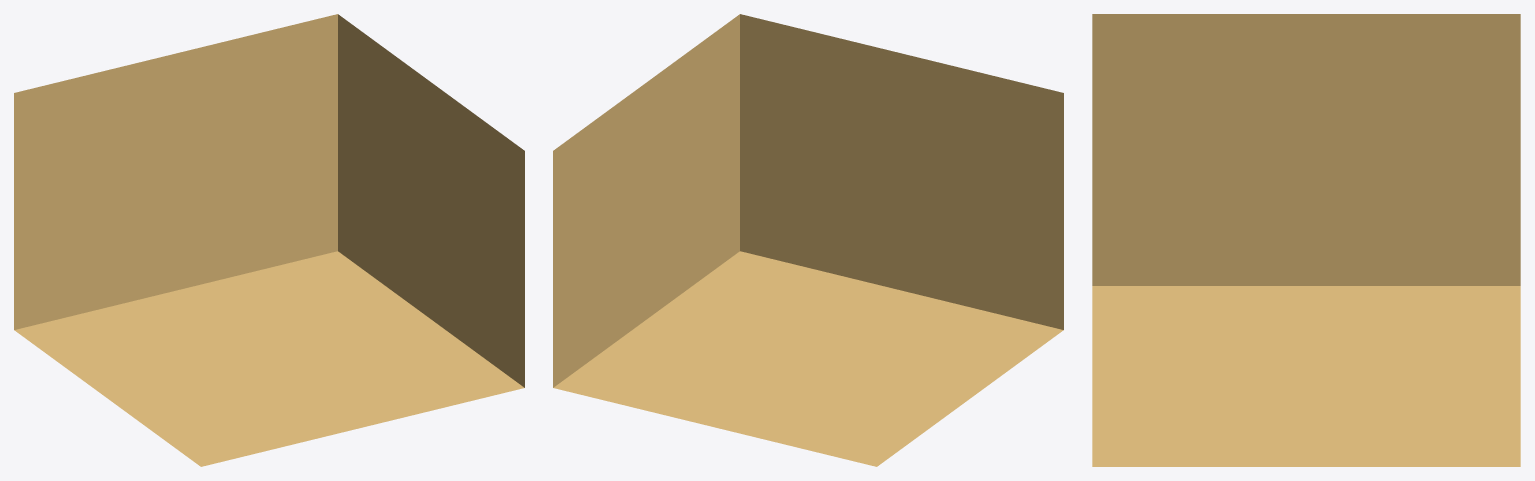
Rendered from lighting-fixtures-vedic-lotus-001.glb.
The picture shows the model from 3 angles, left to right: view 1: azimuth 30°, elevation 25°; view 2: azimuth 150°, elevation 25°; view 3: azimuth 270°, elevation 25°; orthographic projection. The views are drawn at different scales.
Visible parts, largest first — view 1: Vedic Lotus Lighting Fixtures; view 2: Vedic Lotus Lighting Fixtures; view 3: Vedic Lotus Lighting Fixtures.
Part boxes in pixels (bbox=[...]): Vedic Lotus Lighting Fixtures: bbox=[14, 14, 524, 466]; Vedic Lotus Lighting Fixtures: bbox=[553, 14, 1063, 466]; Vedic Lotus Lighting Fixtures: bbox=[1092, 14, 1520, 466].
Bounding box in the file's own units: 2 × 1.4 × 2.
